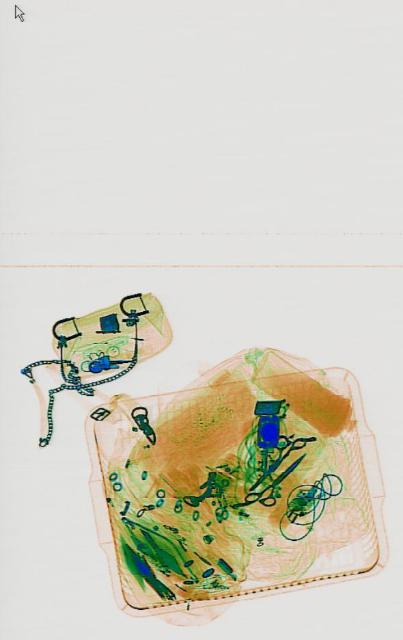Scissors: (240, 417, 306, 507), (243, 437, 310, 521)
